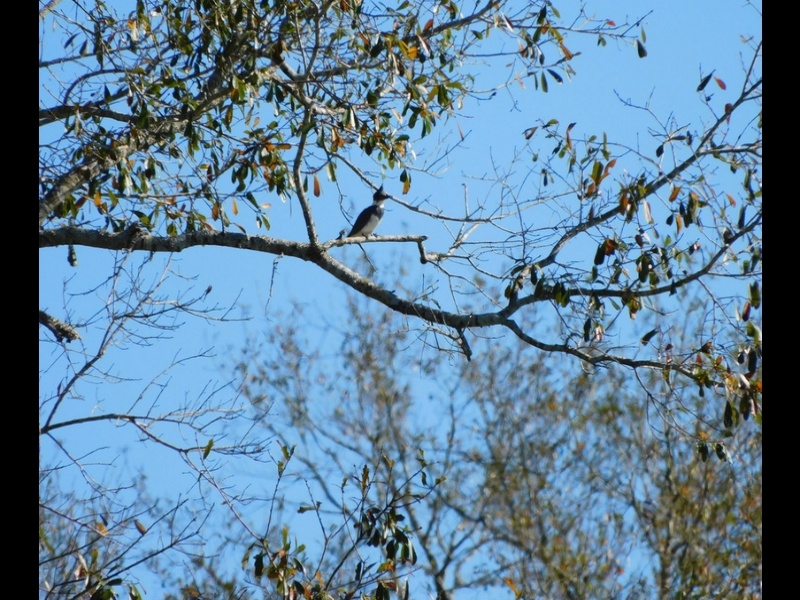kingfisher: (343, 180, 391, 244)
